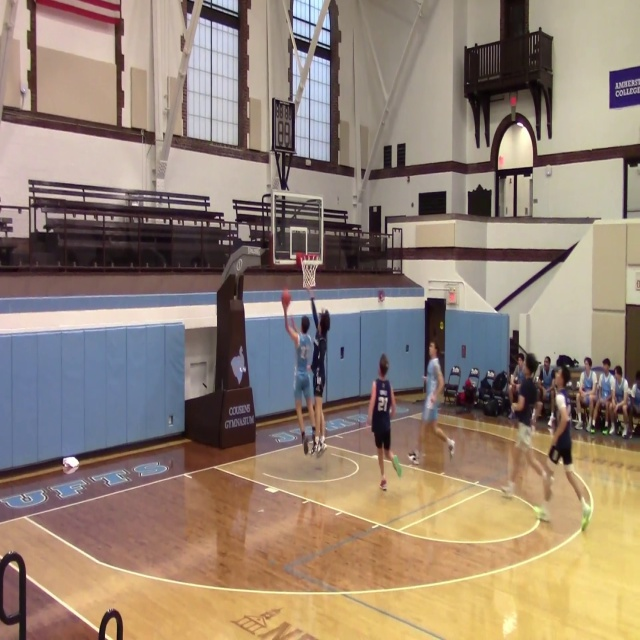Basketball: (281, 290, 291, 308)
